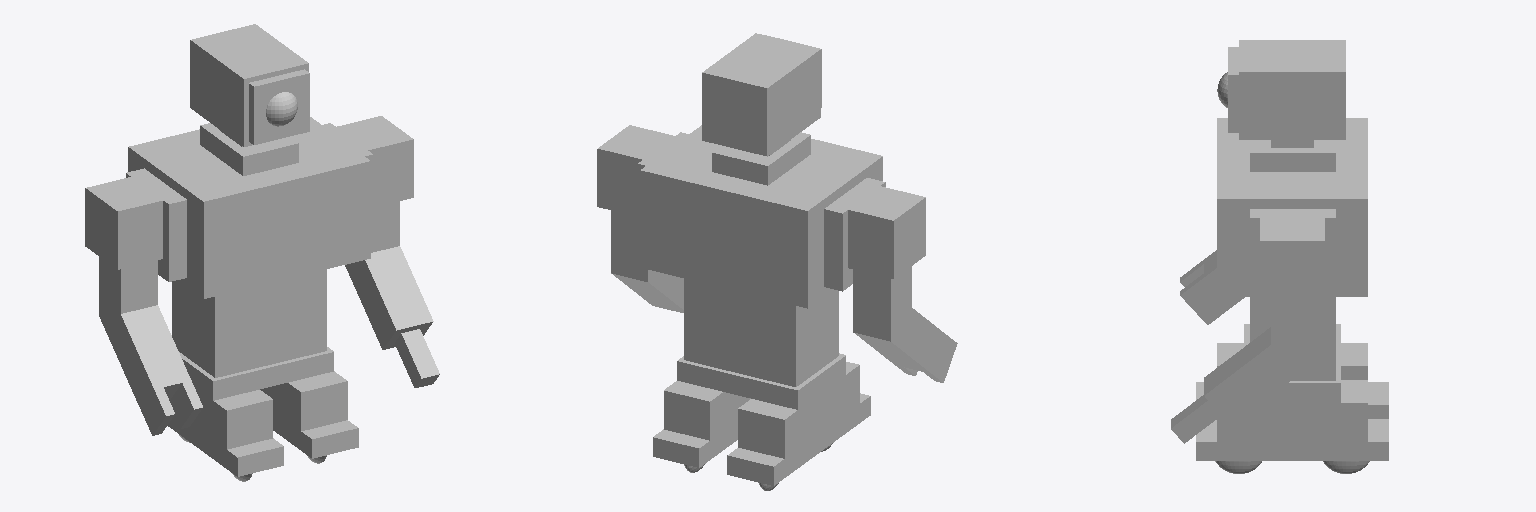
The model's file is Robot.obj.
3 views of the same model, side by side, from view 1: azimuth 30°, elevation 25°; view 2: azimuth 150°, elevation 25°; view 3: azimuth 270°, elevation 25° (orthographic).
Parts seen in each view (by area): view 1: Cube, 立方体.012, 立方体.003, 立方体.002, 立方体.007, 立方体.020, 立方体.010, 立方体.016, 立方体.015, 立方体.013, 立方体.004, 立方体.018 (+9 smaller); view 2: Cube, 立方体.012, 立方体.003, 立方体.002, 立方体.016, 立方体.010, 立方体.013, 立方体.015, 立方体.017, 立方体.018, 立方体.020, 立方体.006 (+5 smaller); view 3: Cube, 立方体.003, 立方体.015, 立方体.010, 立方体.007, 立方体.014, 立方体.012, 立方体.006, 立方体.001, 立方体.009, 立方体.013, 立方体.016 (+4 smaller).
Part boxes in pixels (left/top/right/bottom): Cube: left=128, top=117, right=370, bottom=298; 立方体.012: left=172, top=269, right=326, bottom=377; 立方体.003: left=190, top=24, right=308, bottom=146; 立方体.002: left=85, top=177, right=162, bottom=269; 立方体.007: left=345, top=246, right=433, bottom=349; 立方体.020: left=100, top=300, right=190, bottom=407; 立方体.010: left=328, top=116, right=413, bottom=206; 立方体.016: left=192, top=388, right=272, bottom=449; 立方体.015: left=260, top=371, right=347, bottom=430; 立方体.013: left=179, top=347, right=333, bottom=400; 立方体.004: left=249, top=69, right=309, bottom=144; 立方体.018: left=99, top=257, right=157, bottom=331; Cube: left=640, top=125, right=882, bottom=308; 立方体.012: left=684, top=279, right=838, bottom=386; 立方体.003: left=702, top=33, right=820, bottom=156; 立方体.002: left=841, top=184, right=925, bottom=278; 立方体.016: left=738, top=362, right=859, bottom=458; 立方体.010: left=597, top=125, right=674, bottom=216; 立方体.013: left=677, top=353, right=845, bottom=409; 立方体.015: left=664, top=381, right=750, bottom=440; 立方体.017: left=727, top=393, right=870, bottom=485; 立方体.018: left=853, top=266, right=911, bottom=341; 立方体.020: left=855, top=302, right=945, bottom=373; 立方体.006: left=712, top=132, right=810, bottom=185; Cube: left=1217, top=118, right=1367, bottom=296; 立方体.003: left=1239, top=40, right=1345, bottom=139; 立方体.015: left=1217, top=380, right=1367, bottom=441; 立方体.010: left=1260, top=213, right=1324, bottom=298; 立方体.007: left=1204, top=327, right=1313, bottom=425; 立方体.014: left=1196, top=419, right=1388, bottom=460; 立方体.012: left=1250, top=297, right=1335, bottom=380; 立方体.006: left=1250, top=140, right=1335, bottom=171; 立方体.001: left=1250, top=209, right=1335, bottom=295; 立方体.009: left=1271, top=299, right=1313, bottom=362; 立方体.013: left=1244, top=324, right=1340, bottom=402; 立方体.016: left=1217, top=343, right=1367, bottom=379.
Size of the model in its own units: 3.18 by 4.1 by 2.03.